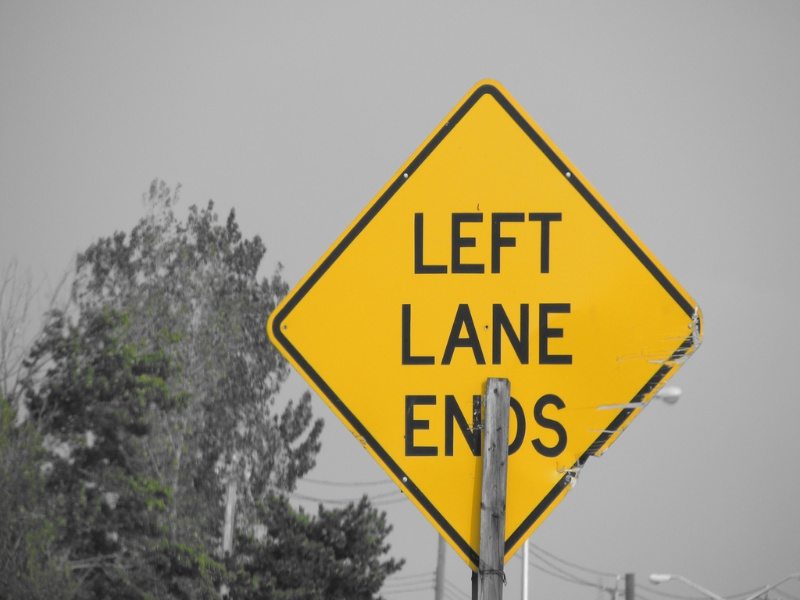left_lane_ends: (290, 85, 697, 544)
